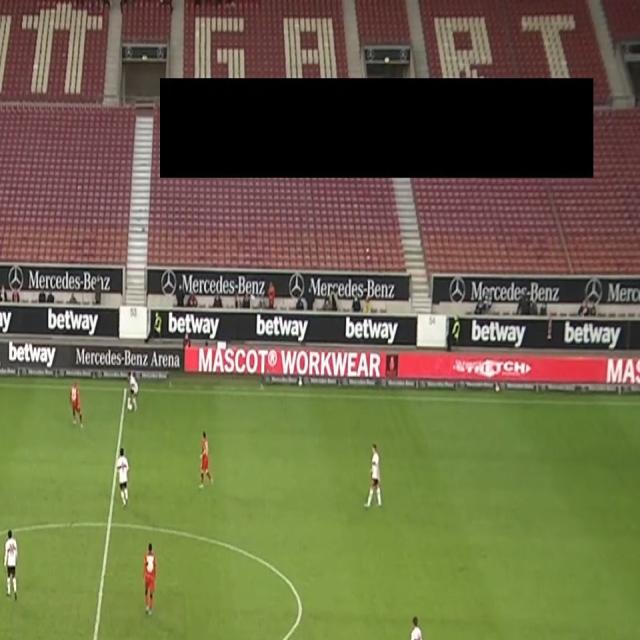ball: (127, 401, 134, 414)
